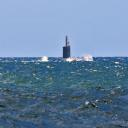submarine: (53, 46, 94, 62)
